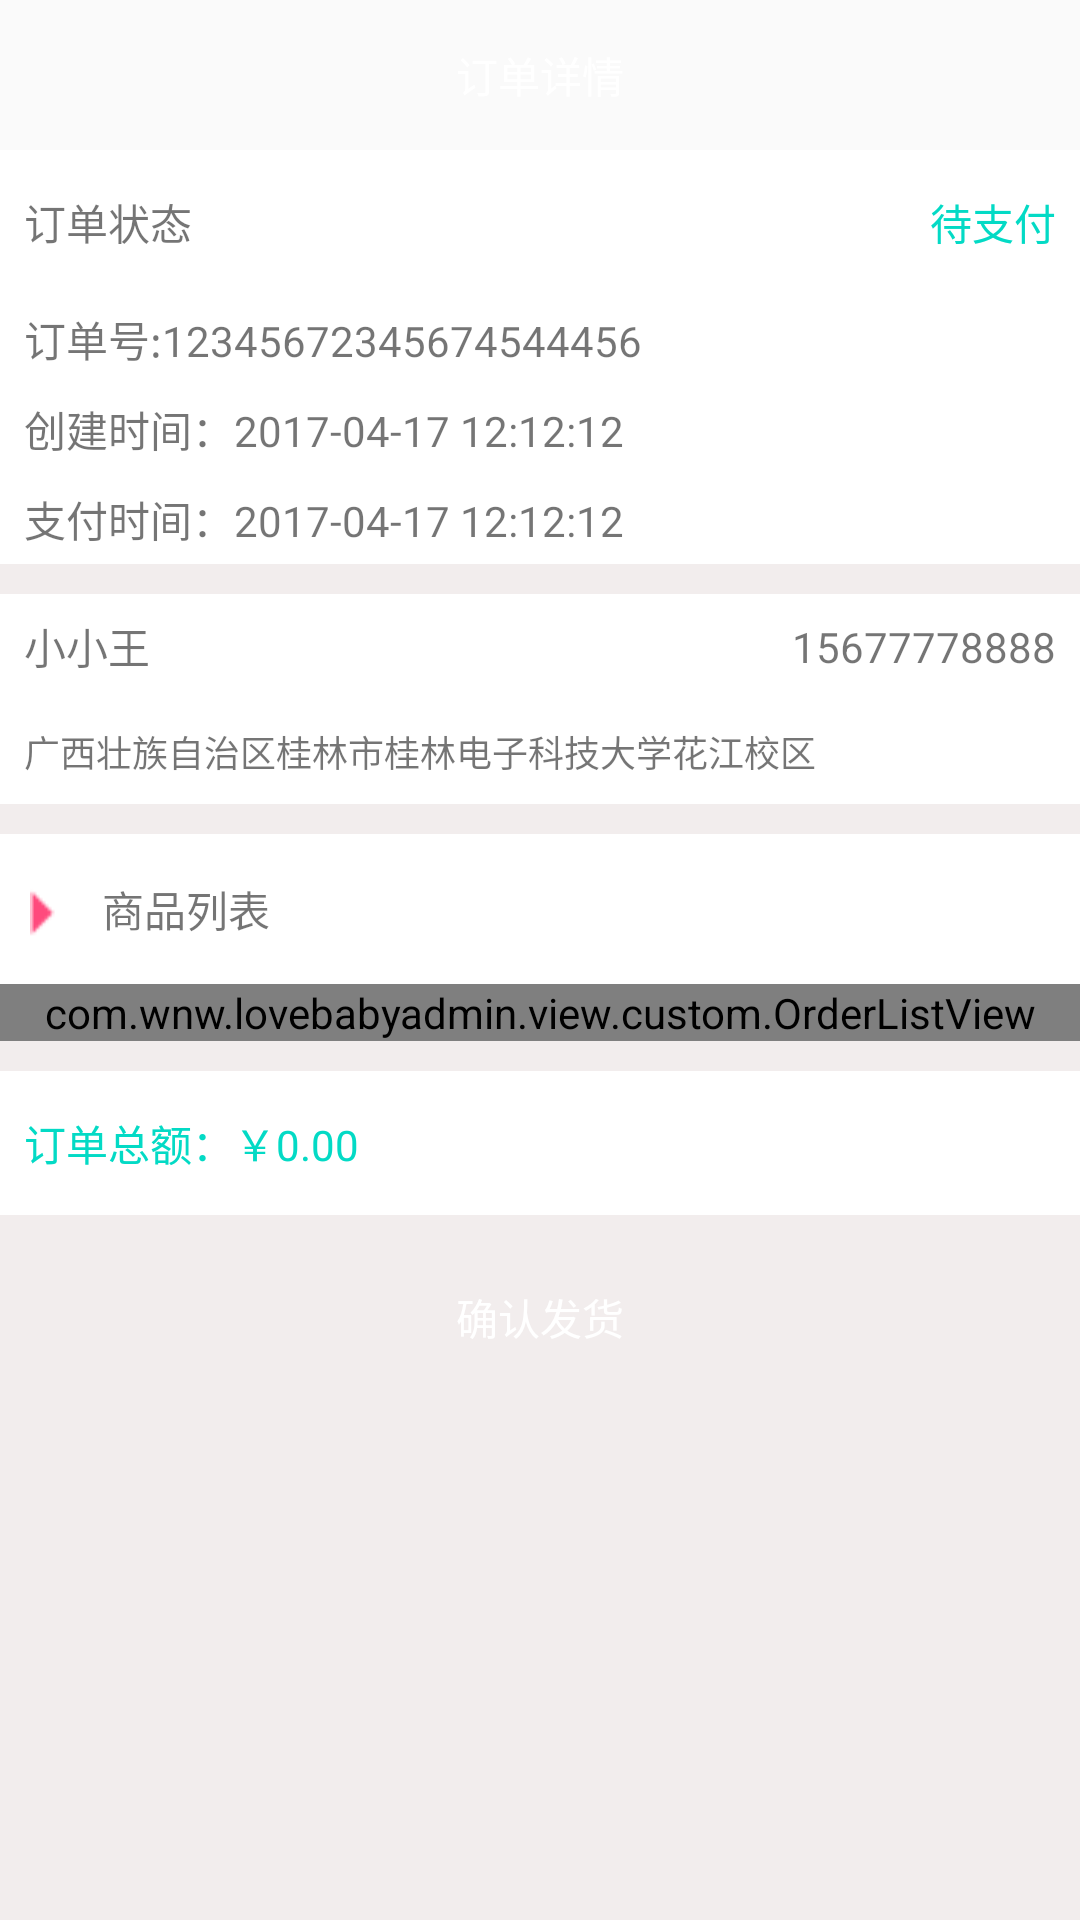

Point at icon controls on the screen. Image size 1080w x 1920h, points as (x,y).
ahead: (42,913)
